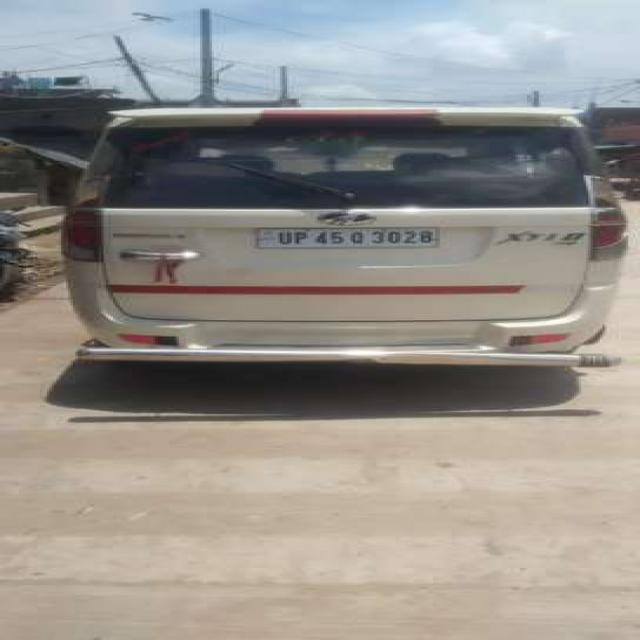Plate: (253, 227, 439, 248)
